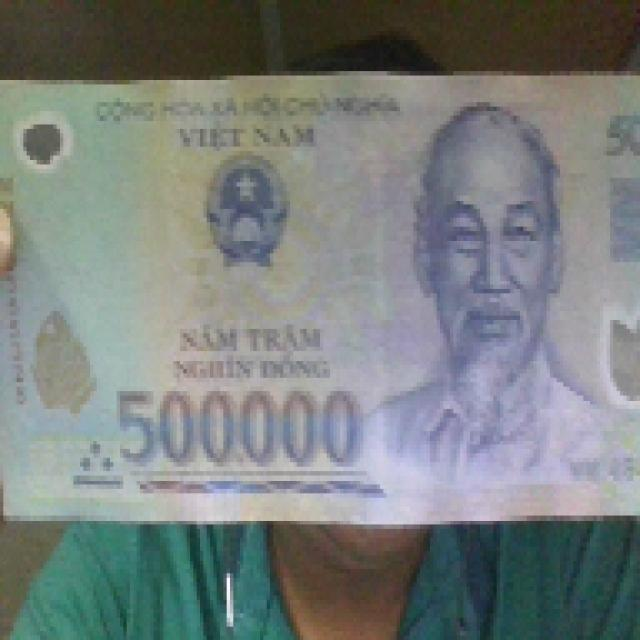500 000 VND: (1, 67, 637, 524)
